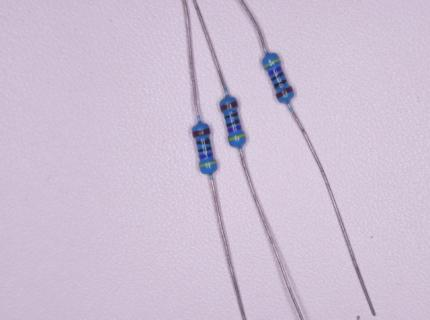Black band: (274, 79, 287, 89), (271, 71, 284, 81), (226, 119, 240, 127), (224, 112, 238, 119), (197, 138, 210, 144), (198, 147, 211, 152)
Brown band: (276, 86, 293, 99), (220, 101, 238, 111), (193, 128, 210, 137)
Violet band: (228, 124, 242, 133), (269, 67, 281, 76), (199, 153, 212, 159)
Yellow band: (264, 58, 280, 68), (229, 133, 245, 142), (200, 160, 216, 167)
